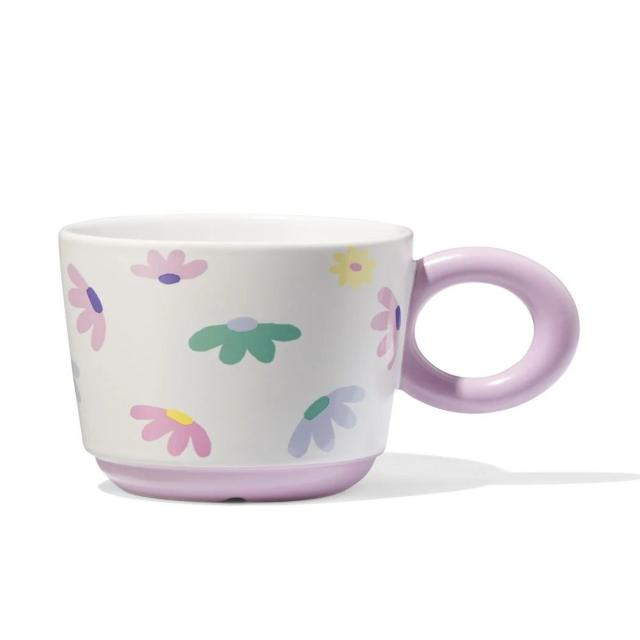glass cup: (56, 211, 580, 503)
